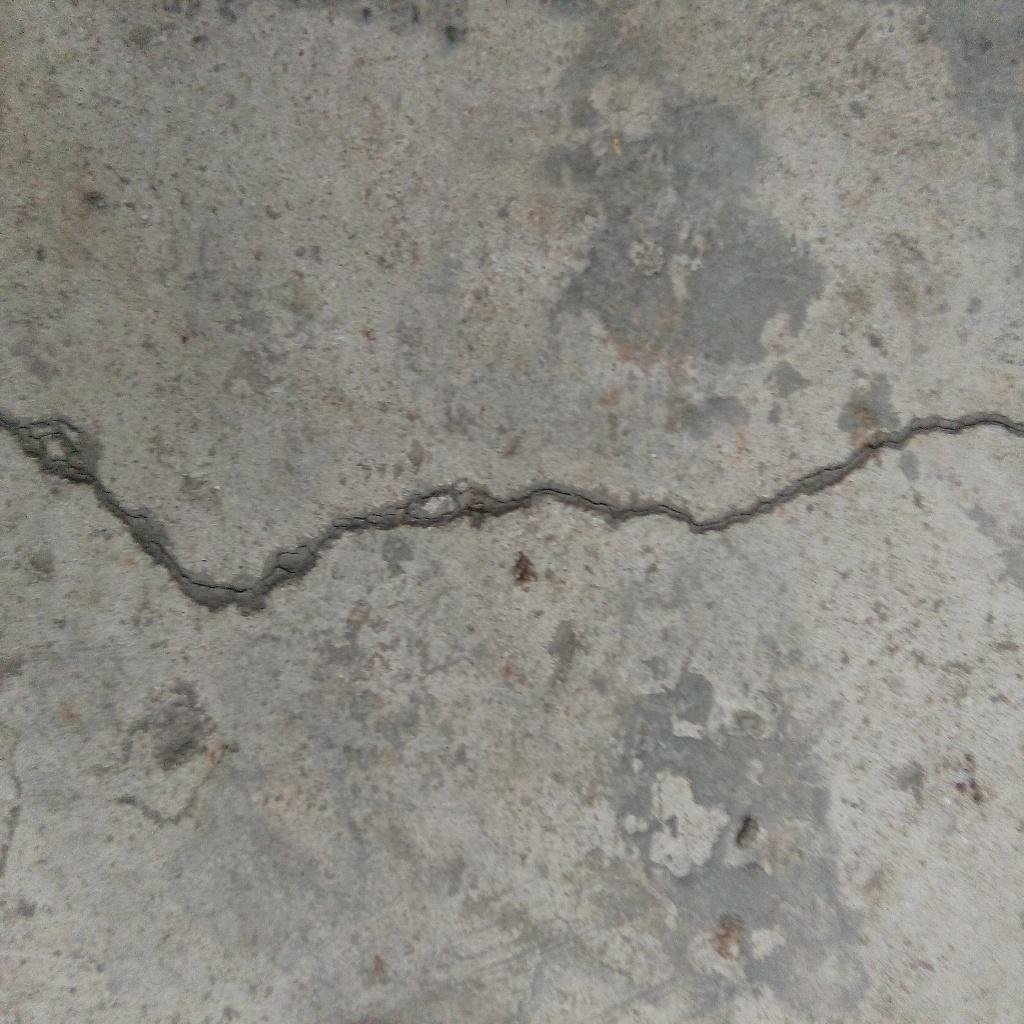Crack: (1, 406, 1024, 618)
Spalling: (139, 677, 217, 775)
